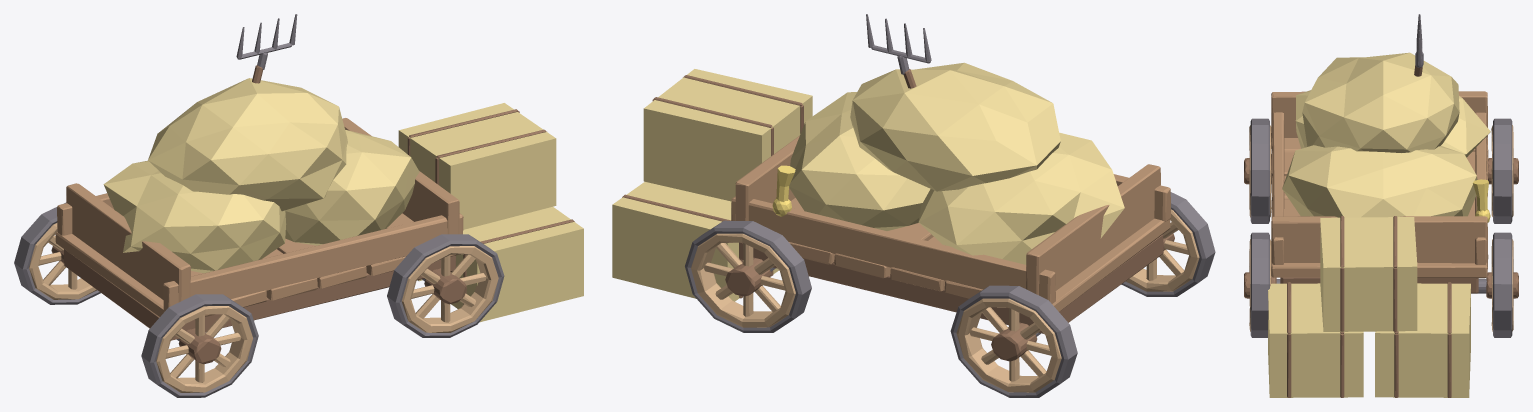
File: Kit_LM_HayCart.fbx
3 renders of one model, left to right at view 1: azimuth 30°, elevation 25°; view 2: azimuth 150°, elevation 25°; view 3: azimuth 270°, elevation 25°, orthographic. The views are drawn at different scales.
Visible parts, largest first — view 1: Kit_LM_HayCart; view 2: Kit_LM_HayCart; view 3: Kit_LM_HayCart.
Boxes of the visible parts, bbox=[...] form: Kit_LM_HayCart: bbox=[14, 14, 583, 397]; Kit_LM_HayCart: bbox=[612, 14, 1215, 397]; Kit_LM_HayCart: bbox=[1244, 14, 1518, 397].
Bounding box in the file's own units: 4.06 × 2.4 × 2.28.
